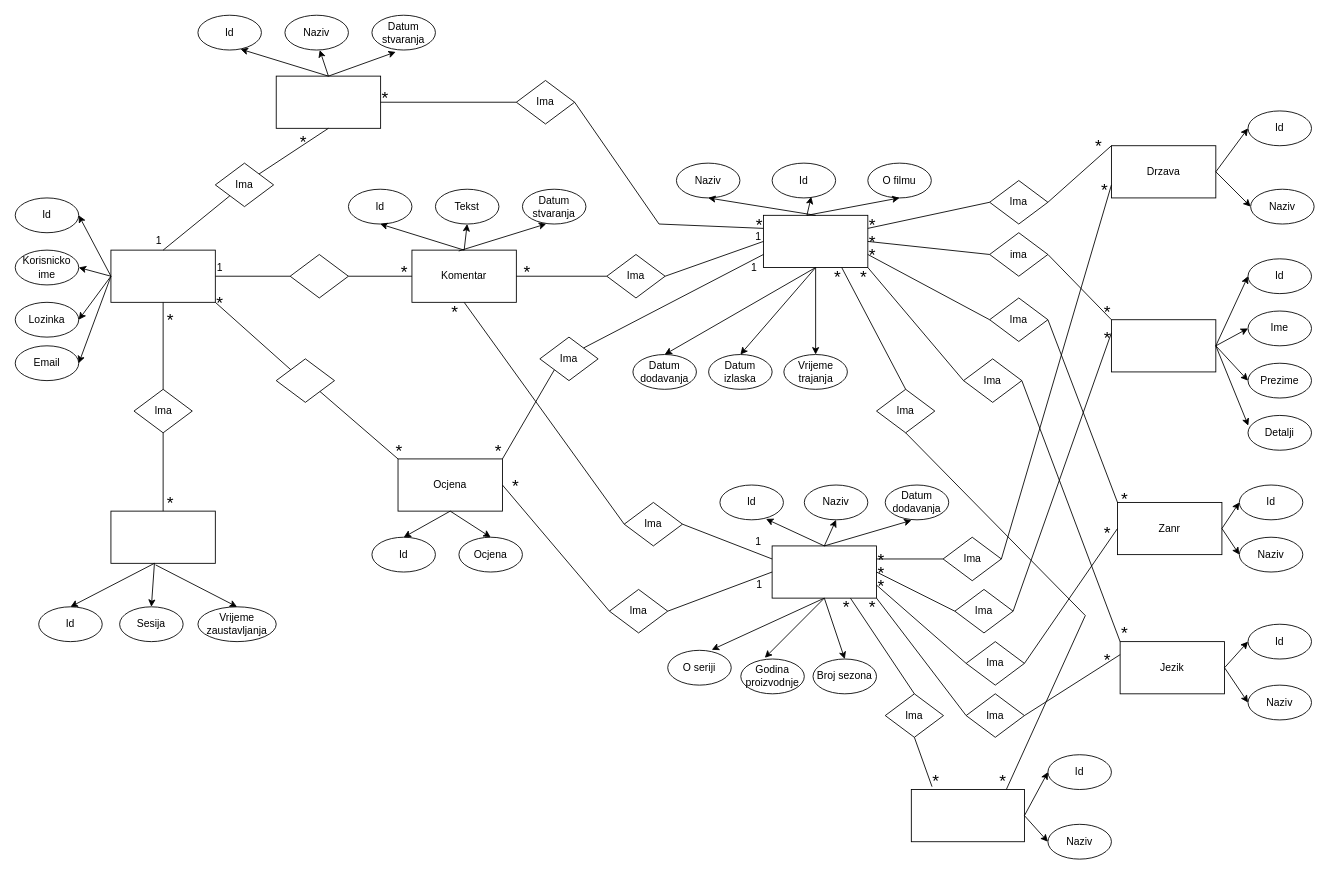
The diagram is 1329 pixels wide and 874 high, and some of its shapes have lost their labels. Each missing label, with the centre of its shape:
"Daje" belongs at (305,380).
"Film" belongs at (815,241).
"Glumac" belongs at (1163,345).
"Korisnik" belongs at (162,275).
"Lista gledanja" belongs at (328,101).
"Piše" belongs at (318,276).
"Povijest gledanja" belongs at (162,536).
"Serija" belongs at (824,571).
"Titl" belongs at (967,815).
